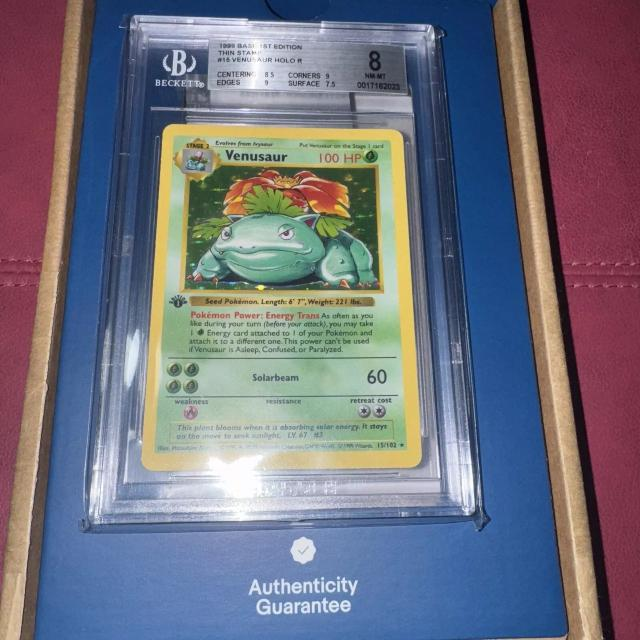bgs_label: (207, 38, 409, 96)
bgs_slab: (86, 14, 477, 523)
card: (139, 123, 424, 472)
